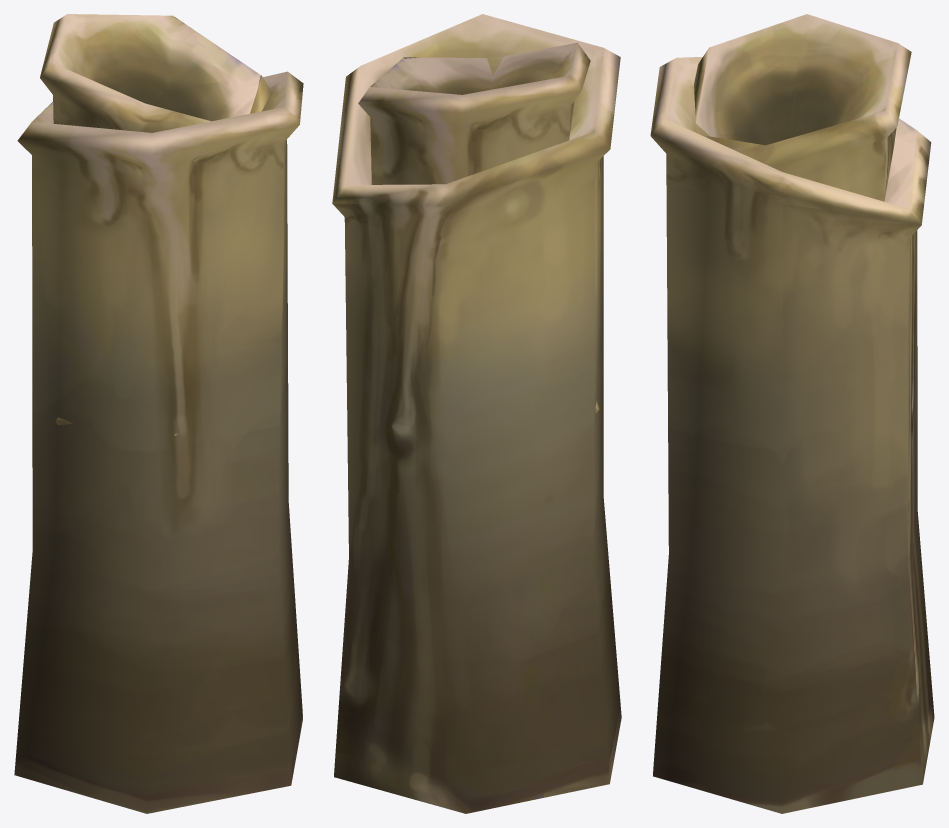
The model's file is Obj_vela.fbx.
The picture shows the model from 3 angles, left to right: view 1: azimuth 30°, elevation 25°; view 2: azimuth 150°, elevation 25°; view 3: azimuth 270°, elevation 25°; orthographic projection. The views are drawn at different scales.
Visible parts, largest first — view 1: Obj_vela_1, Obj_vela_2; view 2: Obj_vela_1, Obj_vela_2; view 3: Obj_vela_1, Obj_vela_2.
Boxes of the visible parts, x1,y1,x2,y2 form: Obj_vela_1: (14, 71, 303, 813); Obj_vela_2: (40, 14, 271, 132); Obj_vela_1: (332, 14, 621, 813); Obj_vela_2: (358, 42, 590, 184); Obj_vela_1: (650, 57, 934, 813); Obj_vela_2: (694, 14, 911, 201).
Size of the model in its own units: 0.1659 by 0.403 by 0.151.
